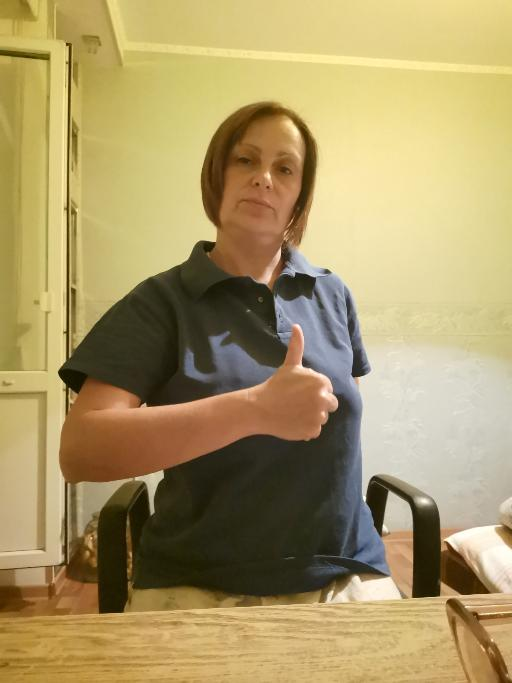like: (255, 320, 342, 450)
